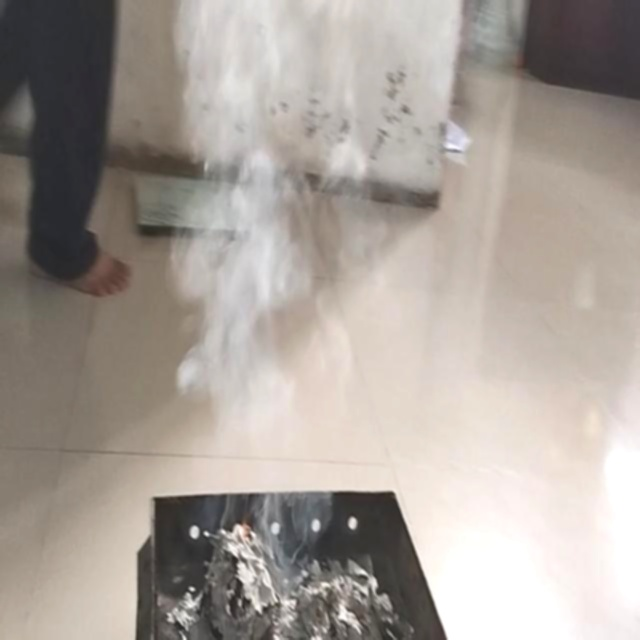smoke: (158, 0, 412, 640)
